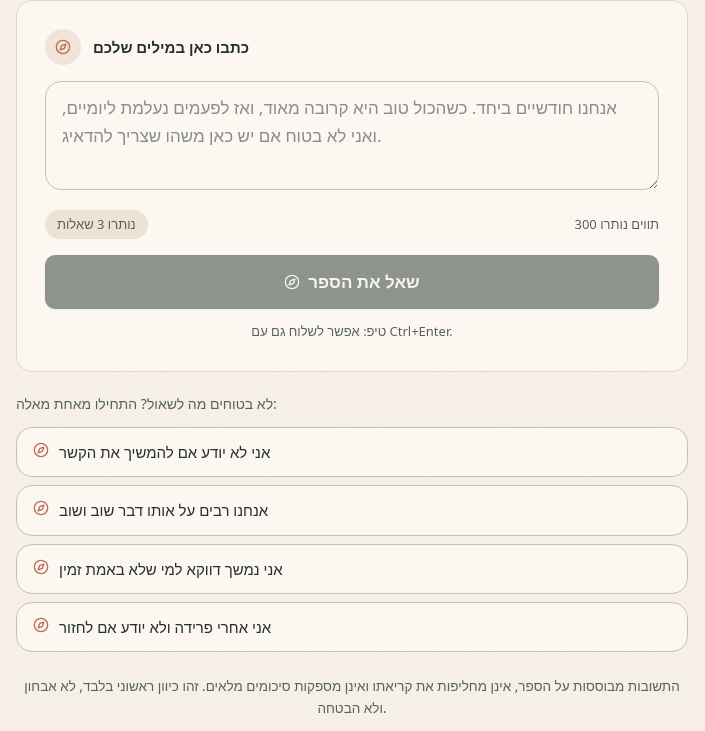
Test: CompassConsole, motion states › shows an accessible error card when the request fails
Replace the text in the text box labelled "כתבו כאן במילים שלכם" with "שאלה שתיכשל" at (352, 135), box 45,81 -> 659,190
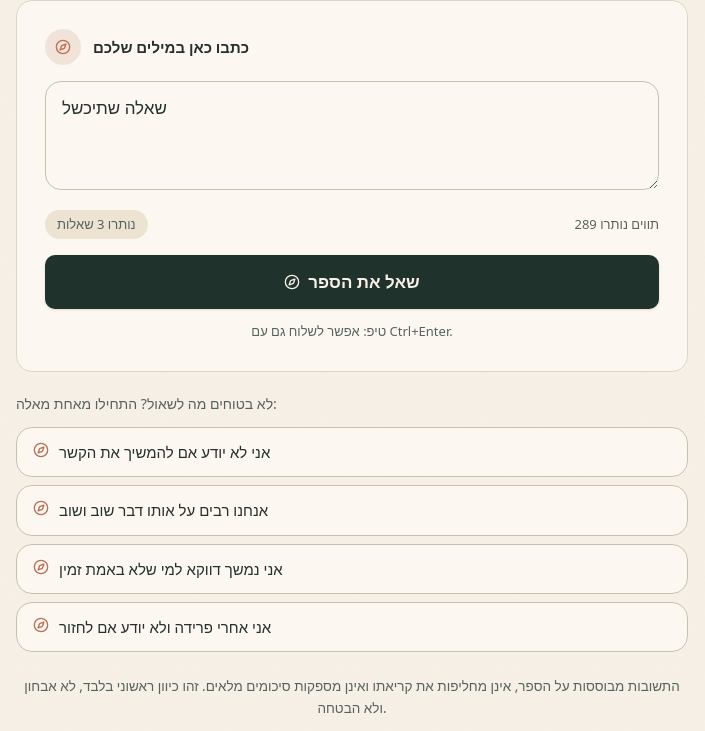
Click the button "שאל את הספר" at (352, 282), box 45,255 -> 659,309
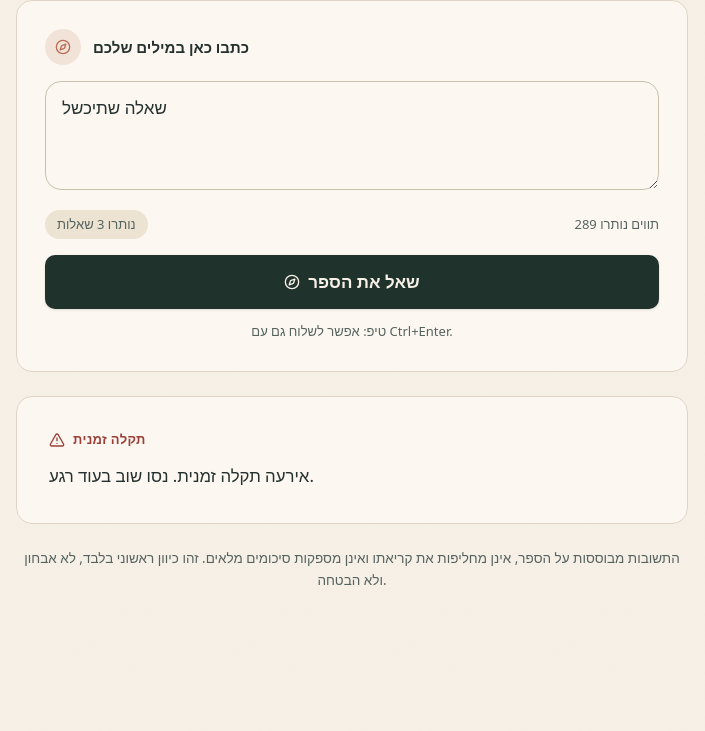
Expected: the message shows "אירעה תקלה זמנית. נסו שוב בעוד רגע.", 49,464 -> 314,487
